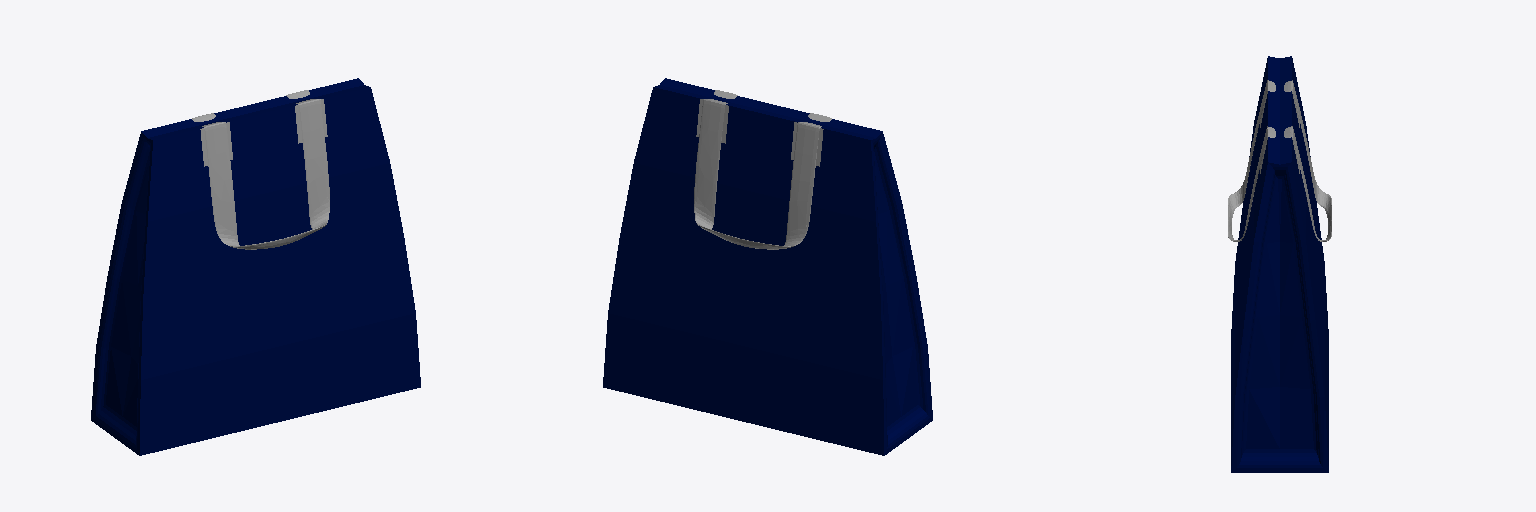
The model's file is bag.obj.
3 renders of one model, left to right at view 1: azimuth 30°, elevation 25°; view 2: azimuth 150°, elevation 25°; view 3: azimuth 270°, elevation 25°, orthographic.
Size of the model in its own units: 20 by 20.07 by 6.43.